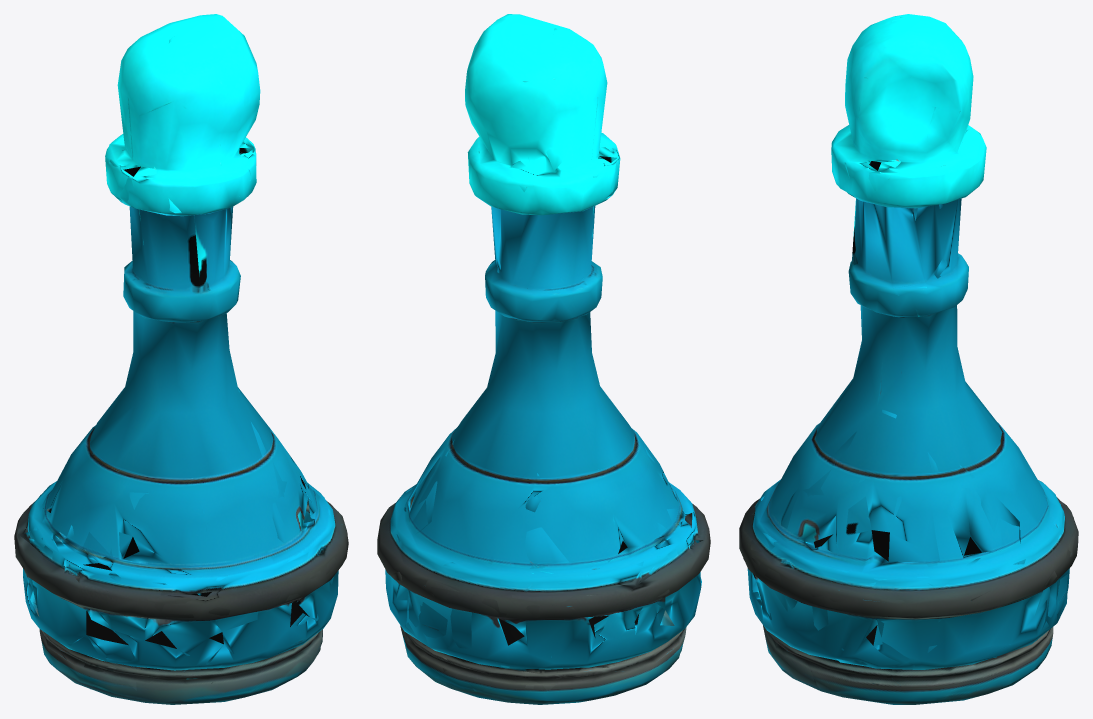
The model's file is powerup_plunger.glb.
The picture shows the model from 3 angles, left to right: view 1: azimuth 30°, elevation 25°; view 2: azimuth 150°, elevation 25°; view 3: azimuth 270°, elevation 25°; orthographic projection.
Parts seen in each view (by area): view 1: Mesh1.0; view 2: Mesh1.0; view 3: Mesh1.0.
Part boxes in pixels (x1,y1,x2,y2): Mesh1.0: [14, 14, 348, 704]; Mesh1.0: [377, 14, 710, 704]; Mesh1.0: [739, 14, 1078, 704].
Size of the model in its own units: 0.4112 by 0.85 by 0.4104.
Materials: 1 (1 with a texture image).
